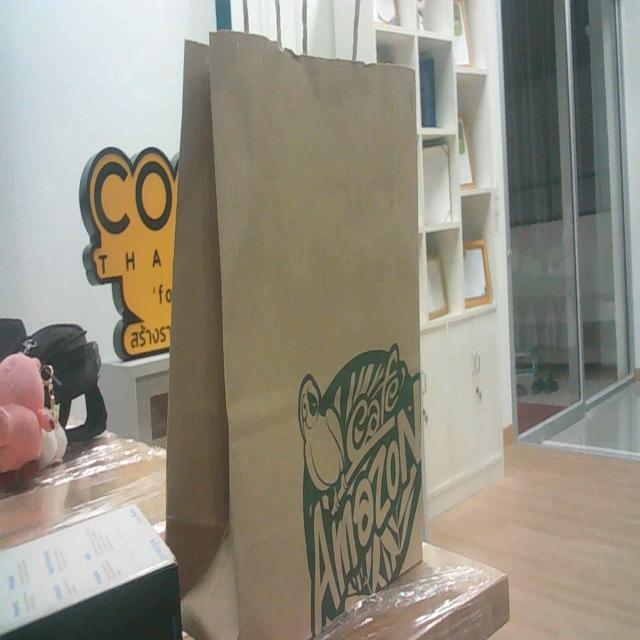bag: (160, 0, 449, 640)
